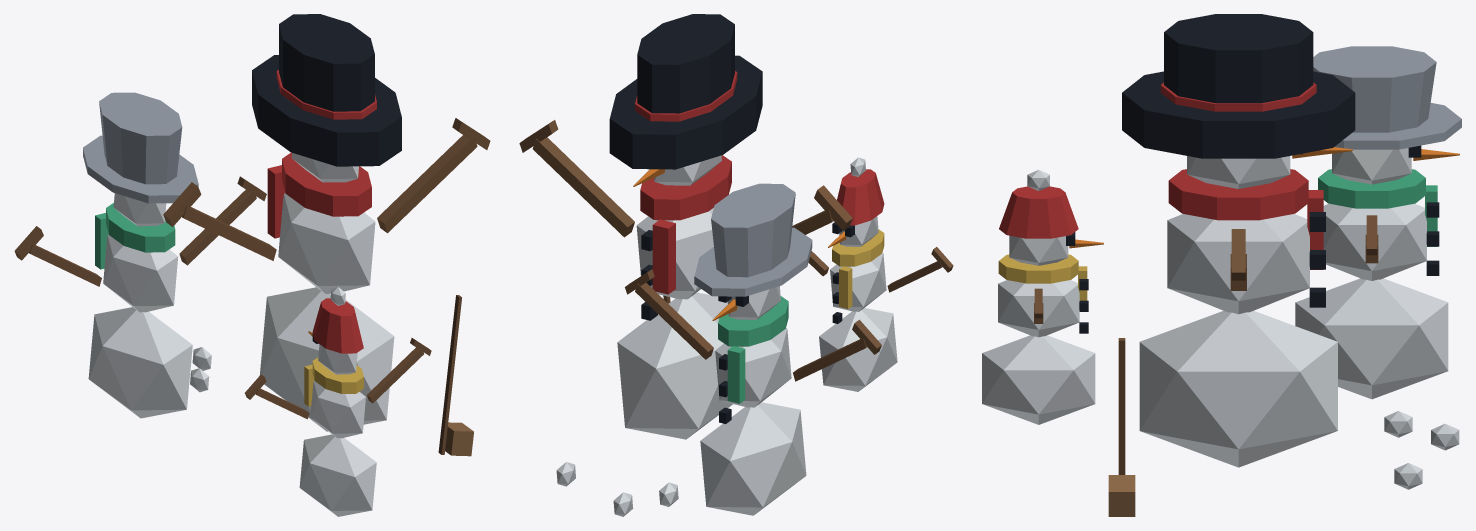
File: Decor_IcePalace_Snowmen.fbx
3 views of the same model, side by side, from view 1: azimuth 30°, elevation 25°; view 2: azimuth 150°, elevation 25°; view 3: azimuth 270°, elevation 25° (orthographic). The views are drawn at different scales.
Parts seen in each view (by area): view 1: Snowmen_Body; view 2: Snowmen_Body; view 3: Snowmen_Body.
Part boxes in pixels (x1,y1,x2,y2): Snowmen_Body: (14, 14, 490, 516); Snowmen_Body: (519, 14, 953, 516); Snowmen_Body: (982, 14, 1461, 516).
Size of the model in its own units: 16.1 by 14.82 by 14.7.
